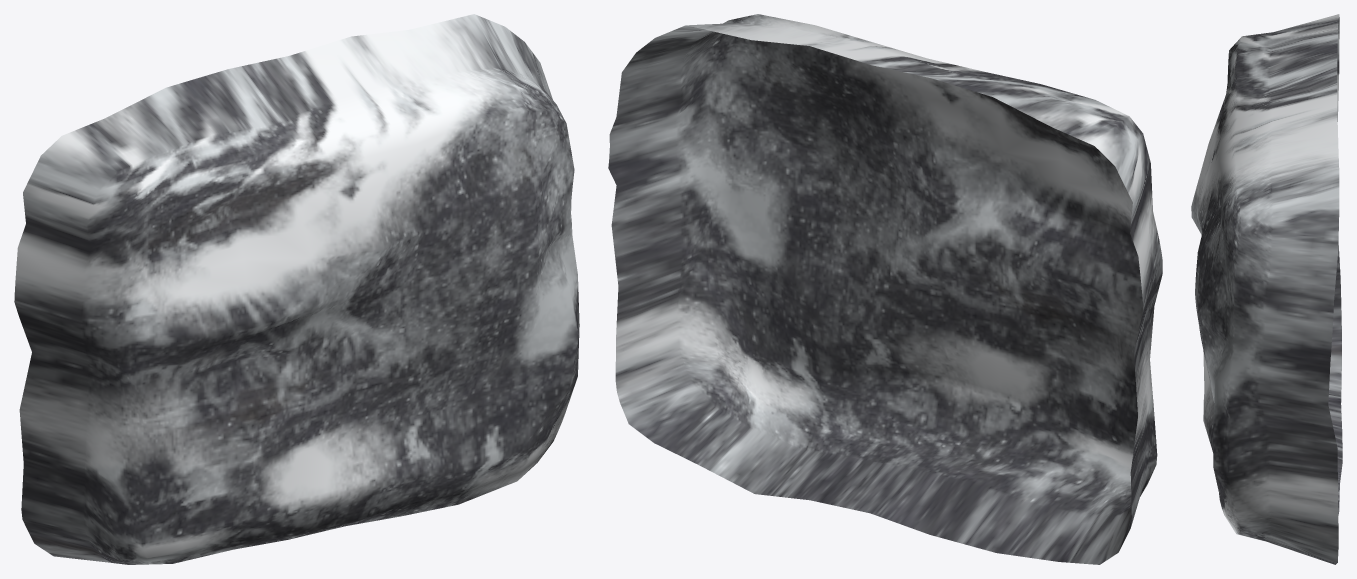
File: SM_CliffStone1.fbx
The picture shows the model from 3 angles, left to right: view 1: azimuth 30°, elevation 25°; view 2: azimuth 150°, elevation 25°; view 3: azimuth 270°, elevation 25°; orthographic projection. The views are drawn at different scales.
Visible parts, largest first — view 1: 가로; view 2: 가로; view 3: 가로.
Part boxes in pixels (left/top/right/bottom): 가로: left=14, top=14, right=579, bottom=564; 가로: left=608, top=14, right=1162, bottom=564; 가로: left=1191, top=14, right=1342, bottom=564.
Bounding box in the file's own units: 820 × 675 × 226.
